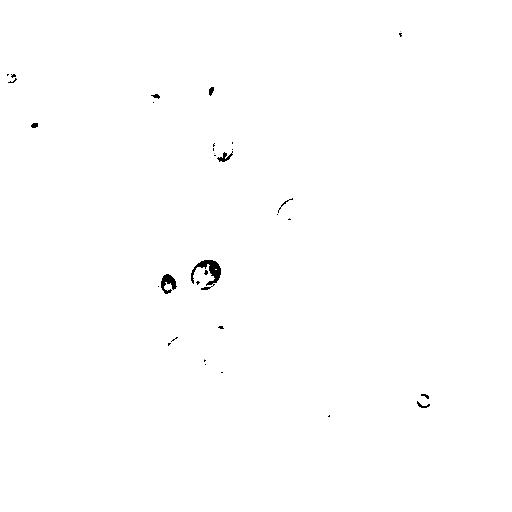micro-algae: (387, 9, 423, 55), (189, 258, 223, 292), (204, 345, 234, 383), (165, 332, 201, 361), (274, 195, 304, 226), (241, 117, 267, 151), (17, 109, 48, 137), (211, 133, 236, 163), (151, 281, 179, 307), (160, 273, 179, 295), (203, 83, 219, 100), (418, 390, 432, 409), (3, 71, 18, 83)
